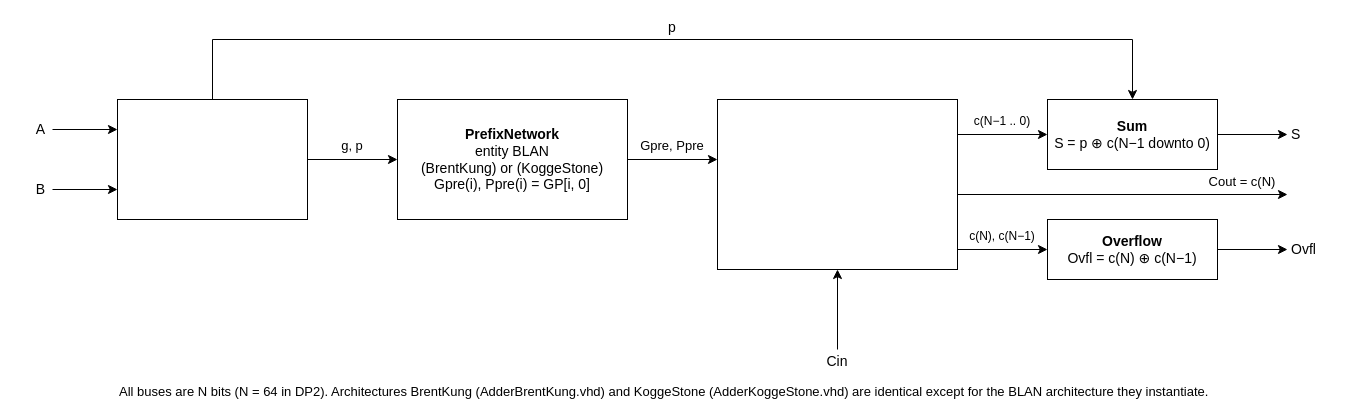
Some shapes in this 1346 by 420 pixel diagram are drawn without their labels. The shapes that lost their labels are listed below. From the top down, each one's box as (x1, y1, x2, y2) in pixels, then its label:
(116, 98, 308, 220): Bit generate / propagate g = A and B p = A xor B
(716, 98, 958, 270): Carry stage c(0) = Cin c(i+1) = Gpre(i) + Ppre(i)·Cin
